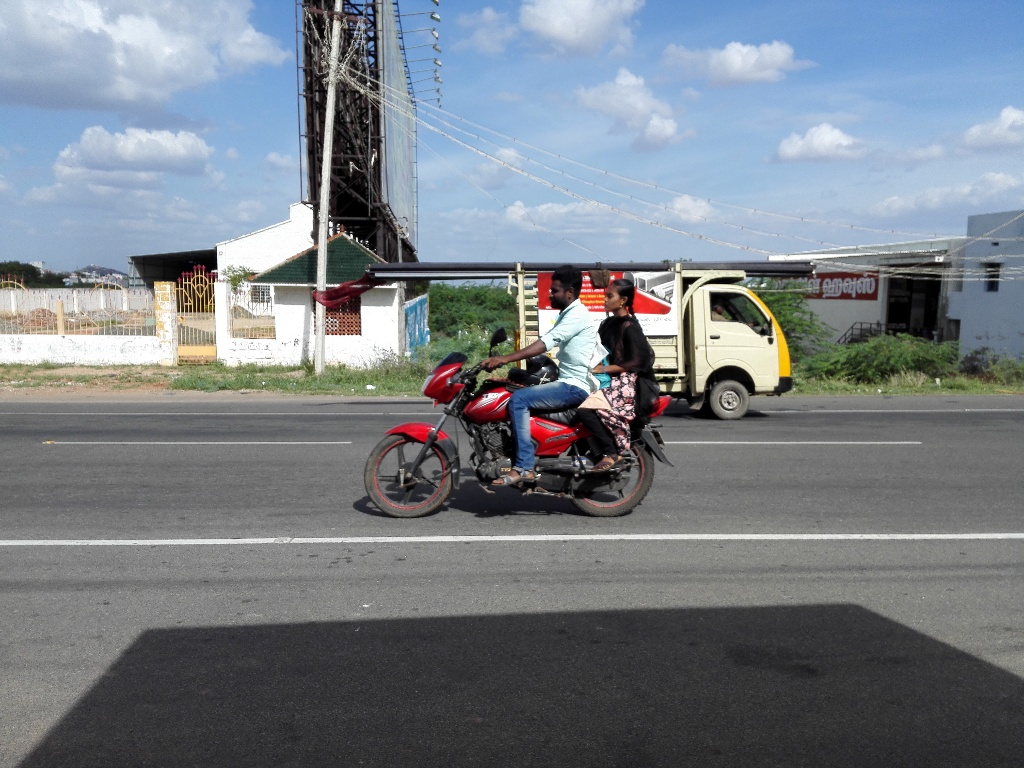biker: (350, 225, 681, 534)
nohelmet: (543, 258, 588, 318), (596, 265, 641, 325)
